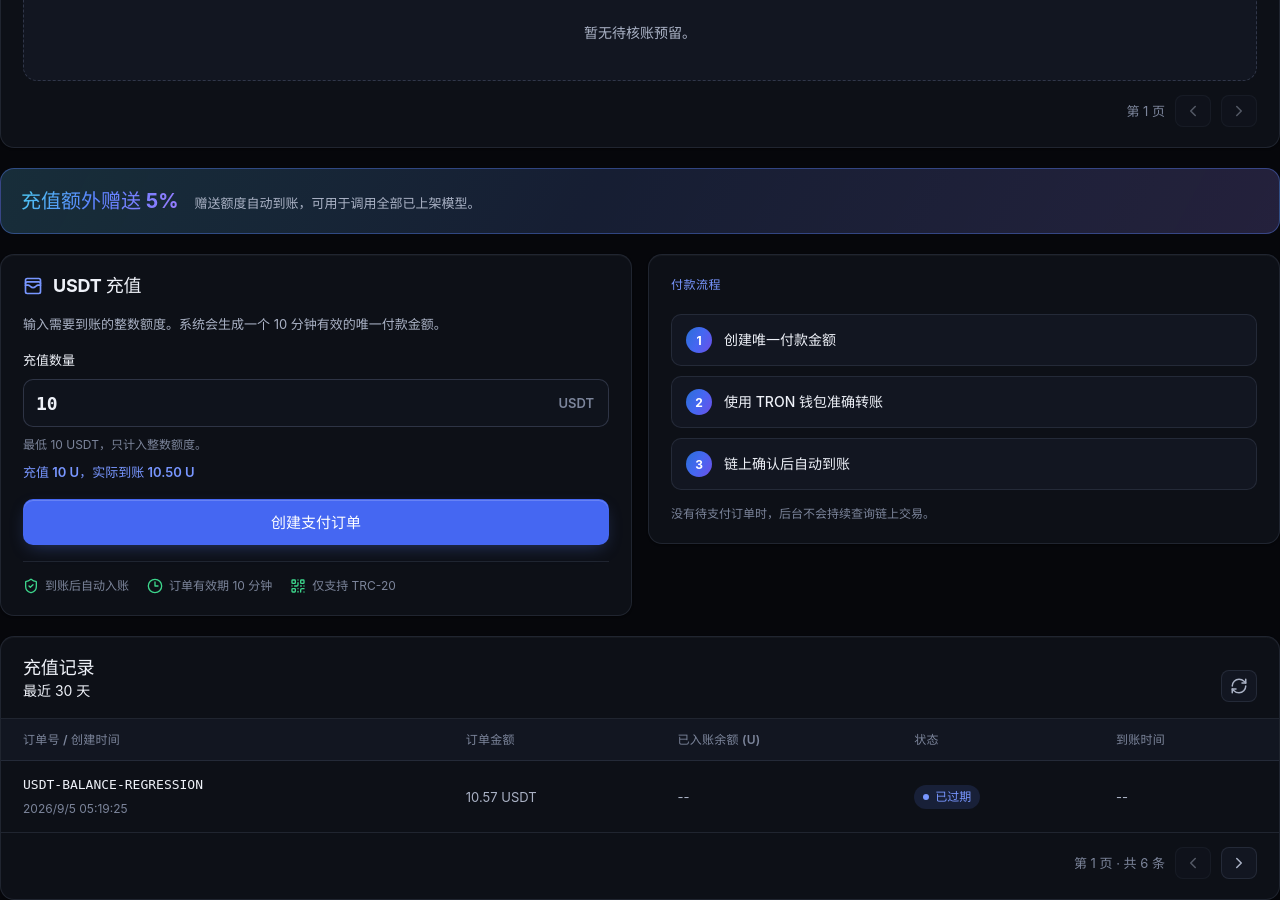
Test case: recharge balance visibility › paginates saved orders without presenting expired or other-provider payments as credited USD
This screenshot has width=1280, height=900.
(page scrolled)
Expected: the text "已过期" is shown, [914, 785, 980, 809]
Expected: the button named "上一页充值记录" is disabled, [1175, 847, 1211, 879]
What coordinates should you click on to do the following:
click the button named "下一页充值记录"
I would click on:
 (1239, 863)
Its box is [1221, 847, 1257, 879].
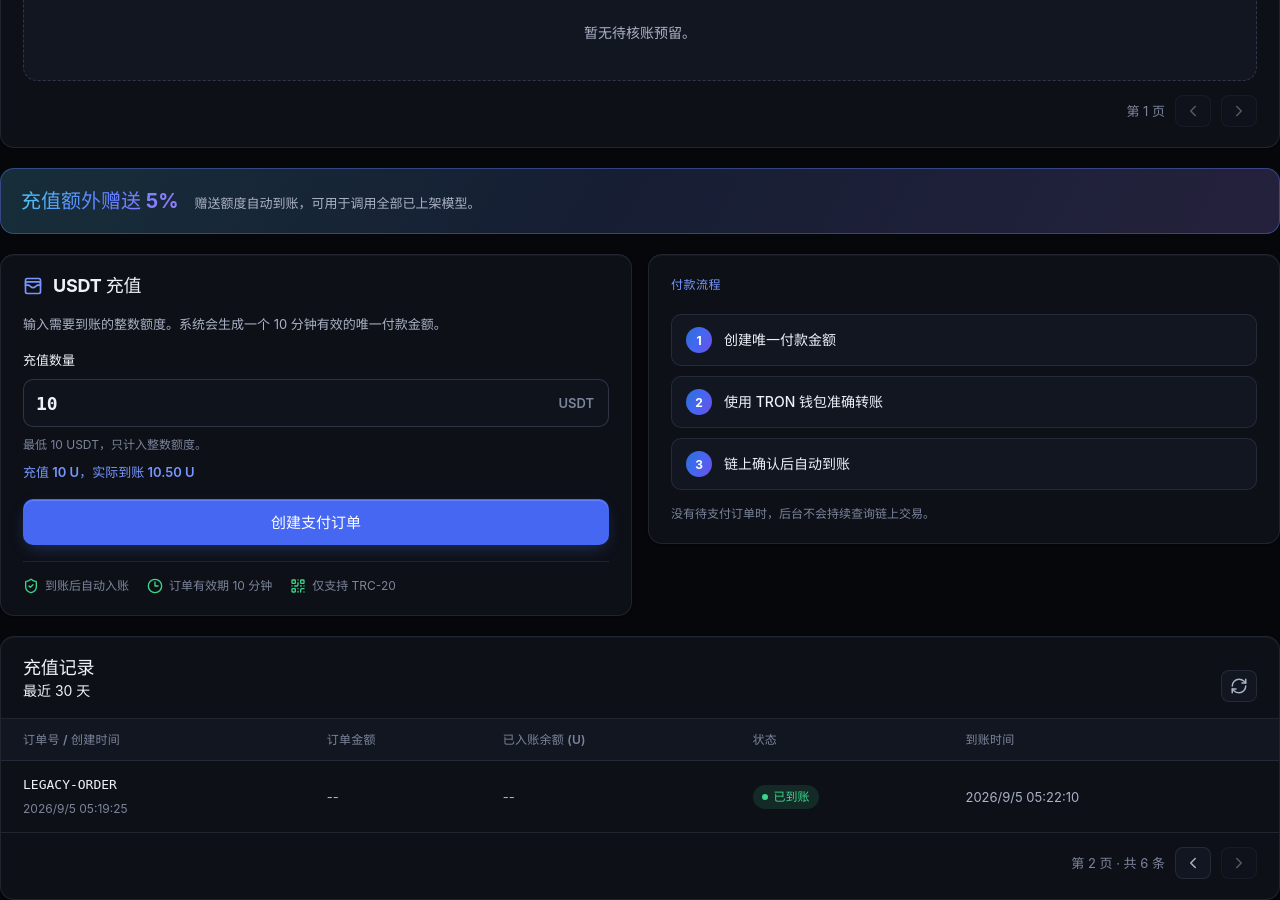
Expected: the text "LEGACY-ORDER" is shown, [23, 778, 117, 792]
Expected: the text "10.57 USDT" is gone
